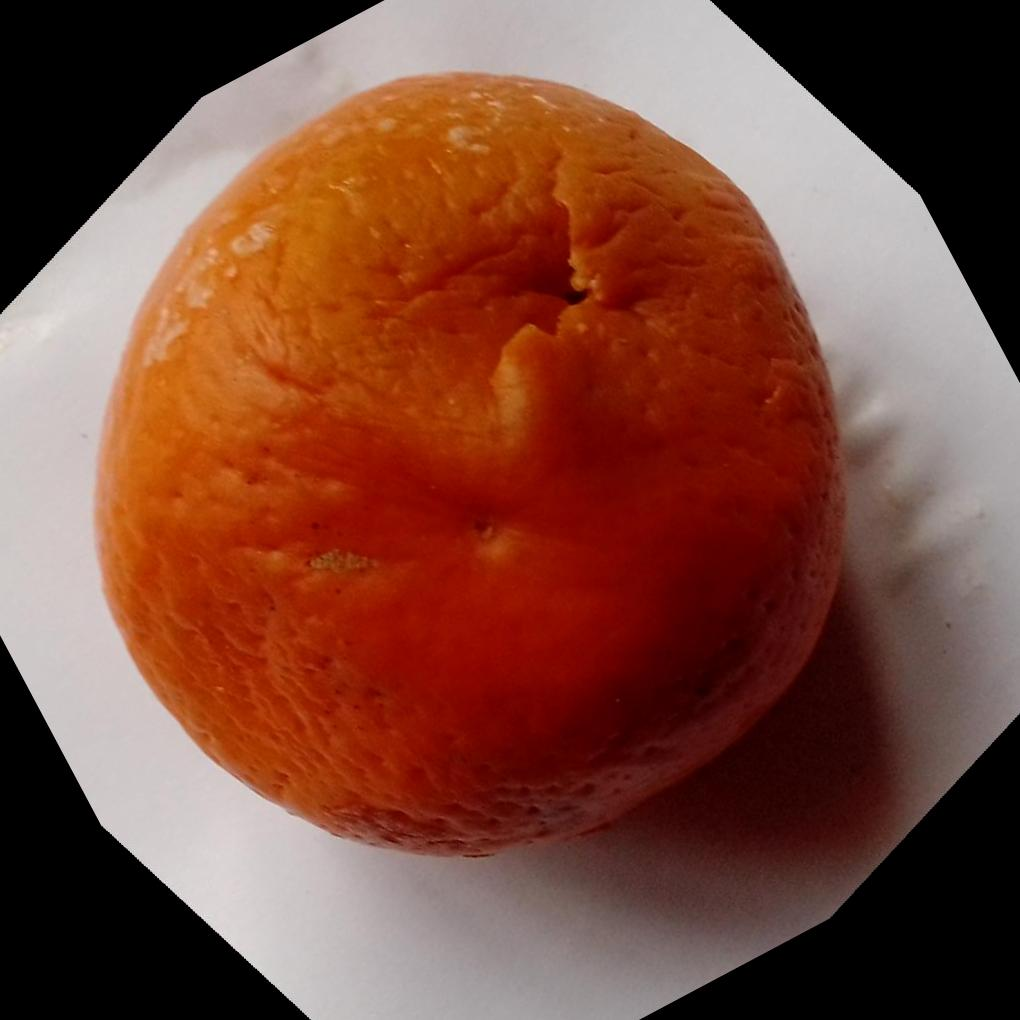FreshOrange: (85, 69, 846, 863)
